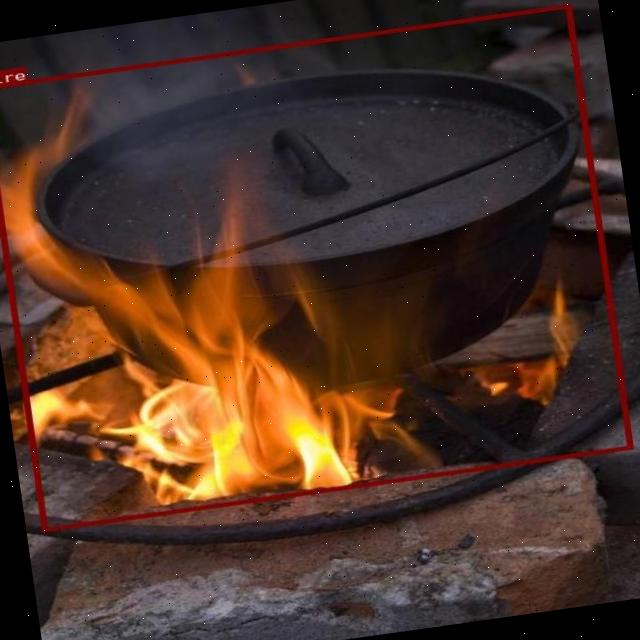fire: (0, 3, 632, 532)
